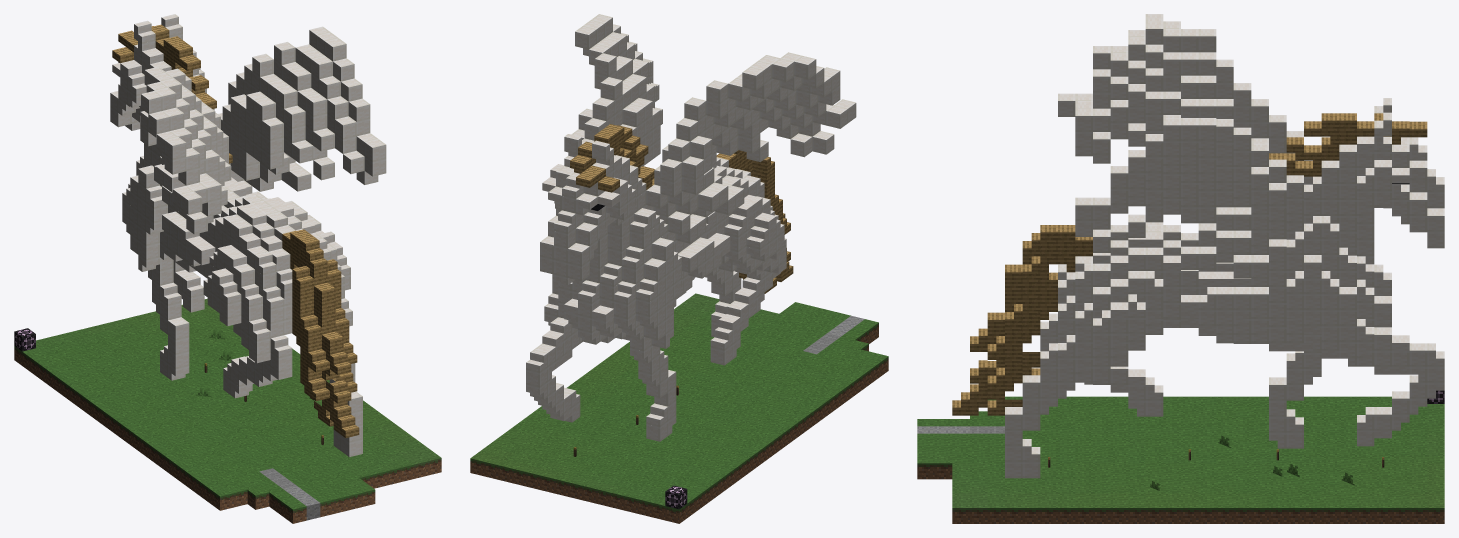
File: horse.glb
The picture shows the model from 3 angles, left to right: view 1: azimuth 30°, elevation 25°; view 2: azimuth 150°, elevation 25°; view 3: azimuth 270°, elevation 25°; orthographic projection. The views are drawn at different scales.
Visible parts, largest first — view 1: node_12, node_14, node_2, node_5, node_10, node_1, node_9, node_7, node_15; view 2: node_14, node_10, node_12, node_7, node_2, node_5, node_9, node_8, node_15, node_3, node_1, node_11; view 3: node_7, node_2, node_5, node_14, node_12, node_10, node_1, node_9, node_8, node_3, node_15.
Part boxes in pixels (box(x1,y1,x2,y2)): node_12: box(149, 238, 361, 523); node_14: box(22, 168, 258, 458); node_2: box(132, 14, 354, 209); node_5: box(259, 217, 441, 506); node_10: box(112, 20, 258, 237); node_1: box(259, 78, 386, 271); node_9: box(149, 107, 282, 251); node_7: box(132, 180, 329, 417); node_15: box(14, 319, 131, 365); node_14: box(576, 211, 816, 517); node_10: box(576, 52, 816, 269); node_12: box(705, 157, 888, 423); node_7: box(478, 266, 704, 476); node_2: box(542, 14, 662, 268); node_5: box(607, 159, 808, 381); node_9: box(714, 66, 856, 190); node_8: box(470, 349, 575, 496); node_15: box(568, 476, 687, 523); node_3: box(540, 210, 575, 284); node_1: box(621, 33, 749, 168); node_11: box(568, 243, 589, 281); node_7: box(1145, 256, 1427, 523); node_2: box(1145, 112, 1427, 278); node_5: box(917, 256, 1145, 523); node_14: box(1145, 351, 1427, 455); node_12: box(917, 313, 1145, 455); node_10: box(1145, 14, 1427, 224); node_1: box(1022, 150, 1145, 270); node_9: box(1058, 30, 1145, 163); node_8: box(1427, 343, 1444, 523); node_3: box(1427, 169, 1444, 248); node_15: box(1427, 390, 1444, 455).
Bounding box in the file's own units: 15 × 25 × 30.
Materials: 2 (2 with a texture image).
